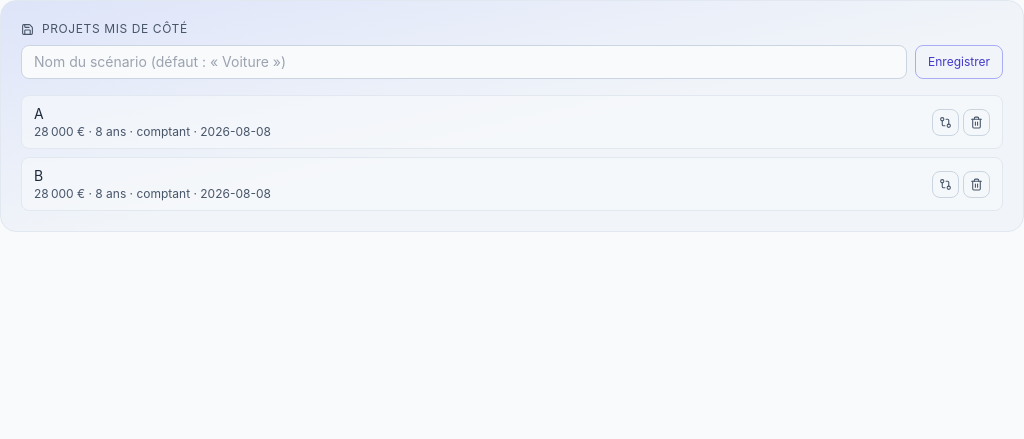
Test: ScenariosProjet › n'affiche la comparaison qu'à partir de deux scénarios
Click the button named "Comparer A": (946, 122) [932,108,959,136]
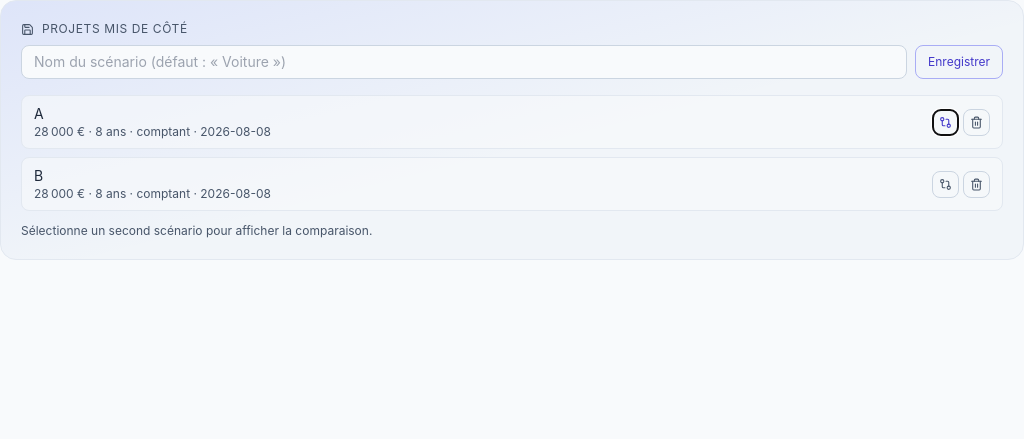
Expected: the text "Sélectionne un second scénario pour afficher la comparaison." is shown, [21,223,372,238]
Click the button named "Comparer B": (946, 184) [932,170,959,198]
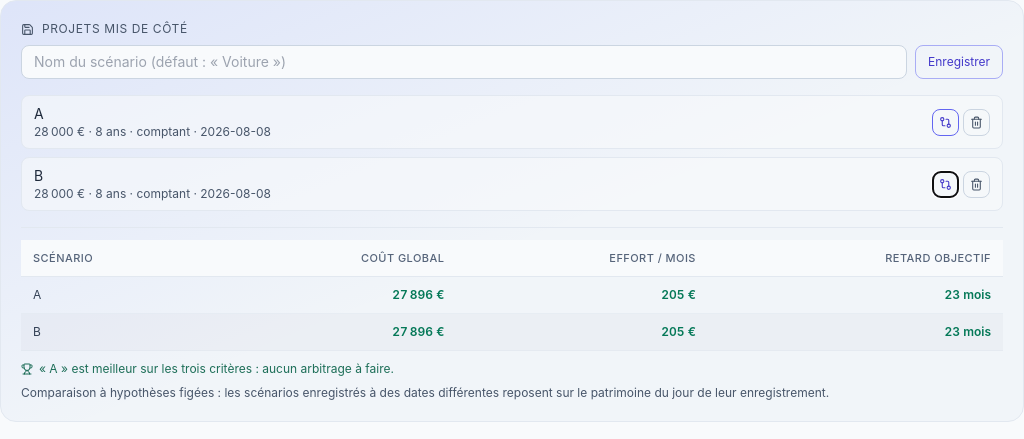
Expected: the table is shown, [21,240,1003,351]
